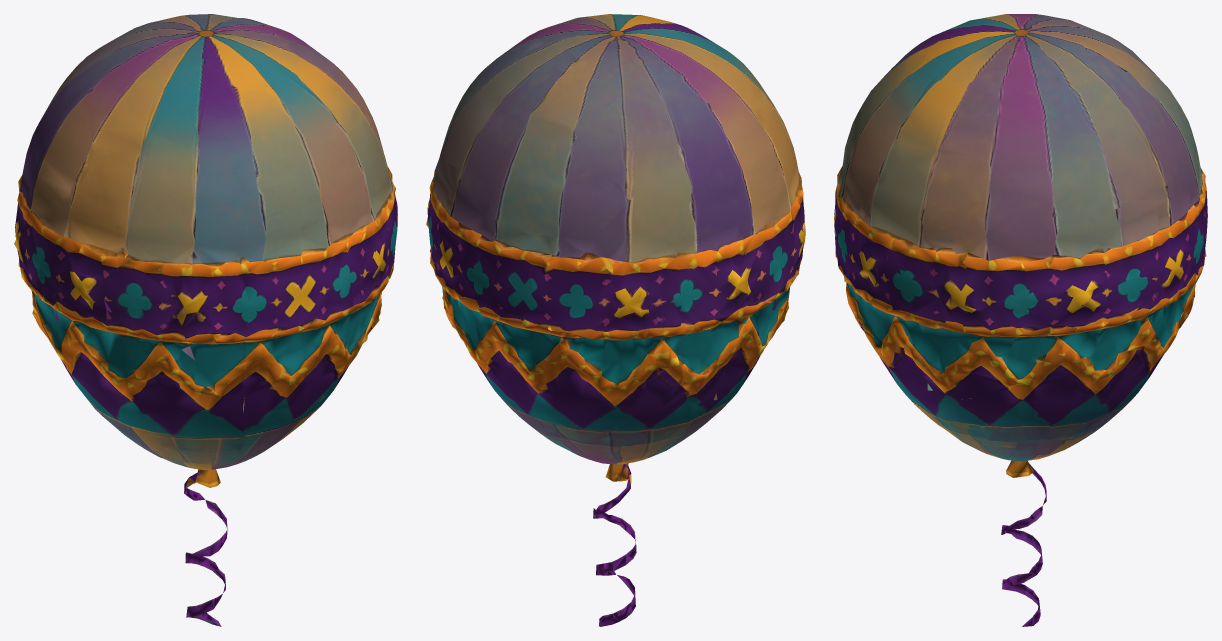
The model's file is BalaoAmarelo5k.glb.
3 renders of one model, left to right at view 1: azimuth 30°, elevation 25°; view 2: azimuth 150°, elevation 25°; view 3: azimuth 270°, elevation 25°, orthographic.
Visible parts, largest first — view 1: mesh_node; view 2: mesh_node; view 3: mesh_node.
Boxes of the visible parts, x1=… form: mesh_node: x1=14, y1=14, x2=397, y2=626; mesh_node: x1=426, y1=14, x2=805, y2=626; mesh_node: x1=834, y1=14, x2=1207, y2=626.
Bounding box in the file's own units: 1.1 × 1.9 × 1.09.
1 material, 1 textured.
